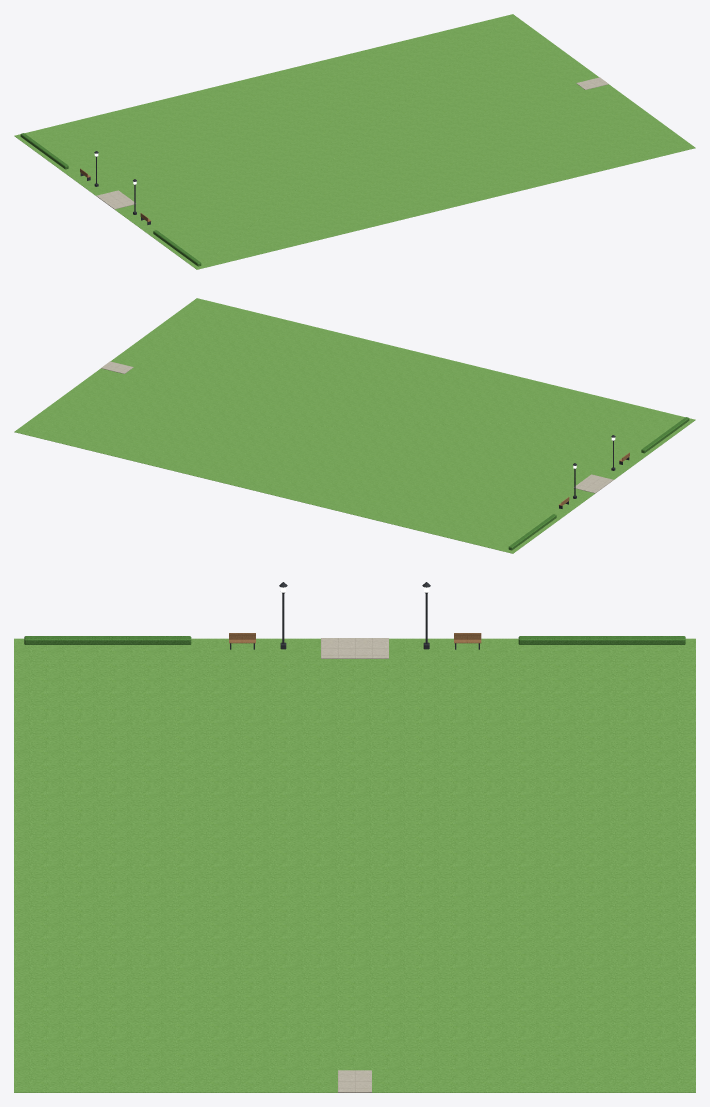
The model's file is sports_gym.glb.
3 views of the same model, one above another, from view 1: azimuth 30°, elevation 25°; view 2: azimuth 150°, elevation 25°; view 3: azimuth 270°, elevation 25° (orthographic). The views are drawn at different scales.
Visible parts, largest first — view 1: SG_Lawn, SG_Apron, SG_Hedge0; view 2: SG_Lawn, SG_Apron, SG_Hedge0; view 3: SG_Lawn, SG_Hedge0, SG_Apron, SG_Bench0.
Part boxes in pixels (bbox=[...]): SG_Lawn: bbox=[14, 14, 695, 269]; SG_Apron: bbox=[96, 77, 608, 209]; SG_Hedge0: bbox=[20, 133, 201, 266]; SG_Lawn: bbox=[14, 298, 695, 553]; SG_Apron: bbox=[101, 361, 613, 493]; SG_Hedge0: bbox=[508, 417, 689, 550]; SG_Lawn: bbox=[14, 638, 695, 1092]; SG_Hedge0: bbox=[24, 636, 685, 644]; SG_Apron: bbox=[321, 638, 388, 1092]; SG_Bench0: bbox=[229, 582, 481, 649].
Size of the model in its own units: 63 by 4.27 by 40.
Materials: 6 (5 with a texture image).
